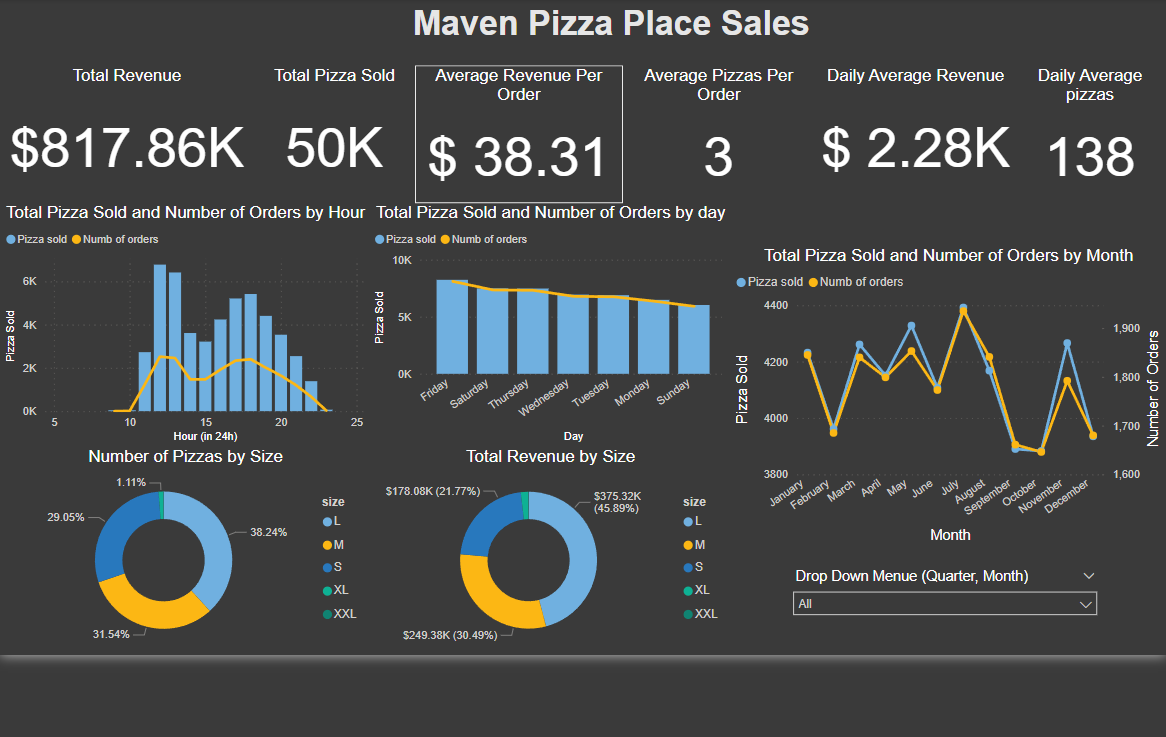

The page's visual inventory and layout, read from the dashboard file:
{"tool":"powerbi","page":{"name":"Overview ","canvas":[1280,720],"ordinal":0},"visuals":[{"type":"card","title":"Total Revenue","fields":{"Values":["Sum(order_details.Total Price)"]},"box":[0,72.7,278.6,150.9],"z":0},{"type":"card","title":"Average Pizzas Per Order","fields":{"Values":["order_details.Average Pizzas Per Order"]},"box":[683.4,72.7,211.3,150.9],"z":1000},{"type":"lineStackedColumnComboChart","title":"Total Pizza Sold and Number of Orders by Hour","fields":{"Category":["orders.hourly_bin"],"Y":["Sum(order_details.quantity)"],"Y2":["CountNonNull(orders.order_id)"]},"box":[1.4,223.7,404.8,267.6],"z":2000},{"type":"lineStackedColumnComboChart","title":"Total Pizza Sold and Number of Orders by day","fields":{"Category":["orders.date_day.Variation.Date Hierarchy.Quarter"],"Y":["Sum(order_details.quantity)"],"Y2":["CountNonNull(order_details.order_id)"]},"box":[406.2,223.7,396.6,267.6],"z":3000},{"type":"card","title":"Total Pizza Sold","fields":{"Values":["Sum(order_details.quantity)"]},"box":[278.6,72.7,177,150.9],"z":4000},{"type":"card","title":"Average Revenue Per Order","fields":{"Values":["order_details.Average Revenue Per Order"]},"box":[455.6,72.7,227.8,150.9],"z":5000},{"type":"card","title":"Daily Average pizzas","fields":{"Values":["order_details.daily_avg_pizzas"]},"box":[1115.6,72.7,161.9,150.9],"z":6000},{"type":"card","title":"Daily Average Revenue","fields":{"Values":["order_details.daily_avg_rev"]},"box":[894.7,72.7,220.9,150.9],"z":7000},{"type":"donutChart","title":"Number of Pizzas by Size","fields":{"Category":["pizzas.size"],"Y":["Sum(order_details.quantity)"]},"box":[1.4,491.3,404.8,229.2],"z":8000},{"type":"donutChart","title":"Total Revenue by Size","fields":{"Category":["pizzas.size"],"Y":["Sum(order_details.Total Price)"]},"box":[406.2,491.3,396.6,229.2],"z":9000},{"type":"textbox","box":[304.6,0,732.8,72.7],"z":10000},{"type":"lineChart","title":"Total Pizza Sold and Number of Orders by Month","fields":{"Category":["orders.date.Variation.Date Hierarchy.Quarter","orders.date.Variation.Date Hierarchy.Month","orders.date.Variation.Date Hierarchy.Day"],"Y":["Sum(order_details.quantity)"],"Y2":["CountNonNull(orders.order_id)"]},"box":[802.7,270.3,477.5,332.1],"z":11000},{"type":"slicer","fields":{"Values":["orders.date.Variation.Date Hierarchy.Quarter","orders.date.Variation.Date Hierarchy.Month"]},"box":[860.4,620.2,354,76.8],"z":12000}]}

Visuals, with their boxes on the page's 1280x720 design canvas (x1, y1, x2, y2). These are canvas units, not pixel positions in the 1166x737 screenshot, which may show the page scaled, cropped or inside an application window:
"Total Revenue" card: {"left": 0, "top": 73, "right": 279, "bottom": 224}
"Average Pizzas Per Order" card: {"left": 683, "top": 73, "right": 895, "bottom": 224}
"Total Pizza Sold and Number of Orders by Hour" lineStackedColumnComboChart: {"left": 1, "top": 224, "right": 406, "bottom": 491}
"Total Pizza Sold and Number of Orders by day" lineStackedColumnComboChart: {"left": 406, "top": 224, "right": 803, "bottom": 491}
"Total Pizza Sold" card: {"left": 279, "top": 73, "right": 456, "bottom": 224}
"Average Revenue Per Order" card: {"left": 456, "top": 73, "right": 683, "bottom": 224}
"Daily Average pizzas" card: {"left": 1116, "top": 73, "right": 1278, "bottom": 224}
"Daily Average Revenue" card: {"left": 895, "top": 73, "right": 1116, "bottom": 224}
"Number of Pizzas by Size" donutChart: {"left": 1, "top": 491, "right": 406, "bottom": 720}
"Total Revenue by Size" donutChart: {"left": 406, "top": 491, "right": 803, "bottom": 720}
textbox: {"left": 305, "top": 0, "right": 1037, "bottom": 73}
"Total Pizza Sold and Number of Orders by Month" lineChart: {"left": 803, "top": 270, "right": 1280, "bottom": 602}
slicer - orders.date.Variation.Date Hierarchy.Quarter x orders.date.Variation.Date Hierarchy.Month: {"left": 860, "top": 620, "right": 1214, "bottom": 697}
